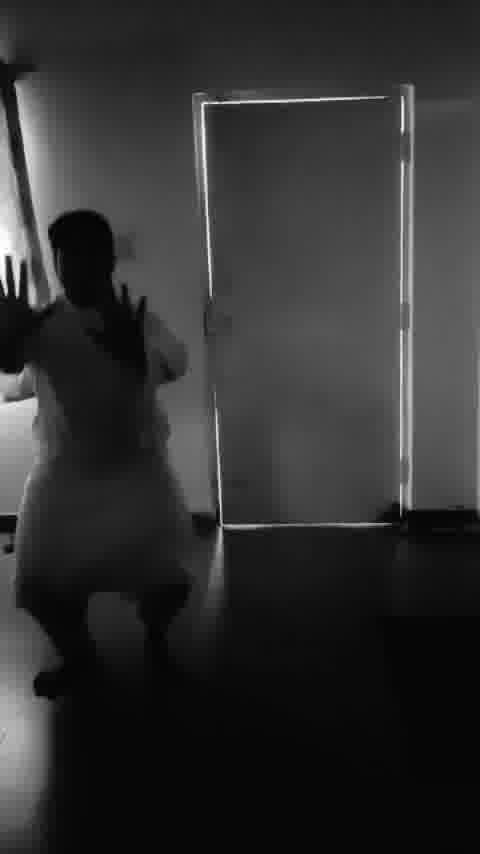duck: (3, 206, 216, 700)
